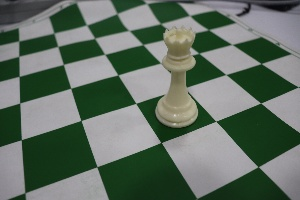white_queen: (152, 18, 213, 138)
